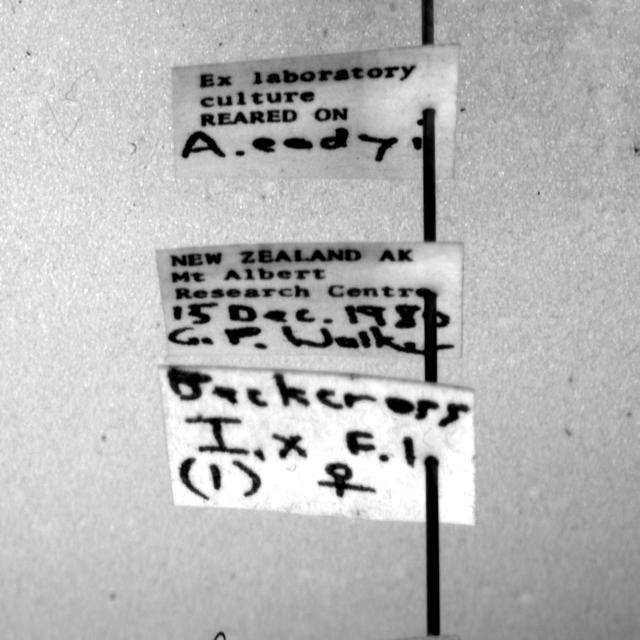hand_label: (159, 366, 475, 525)
mixed_label: (172, 43, 460, 178), (156, 242, 462, 358)
